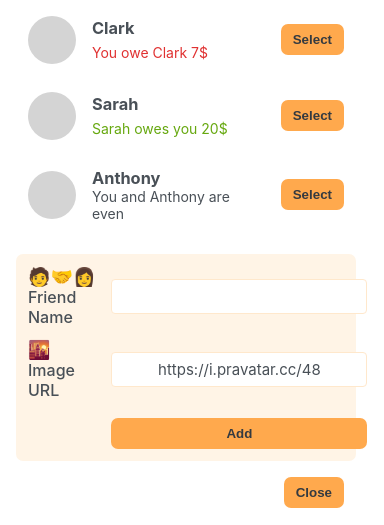
Test case: App component test suite › should unmount formAddFriend if the Close button is clicked
The image size is (384, 525).
Click the button "Close" at {"x": 314, "y": 492}, box [284, 477, 344, 508]
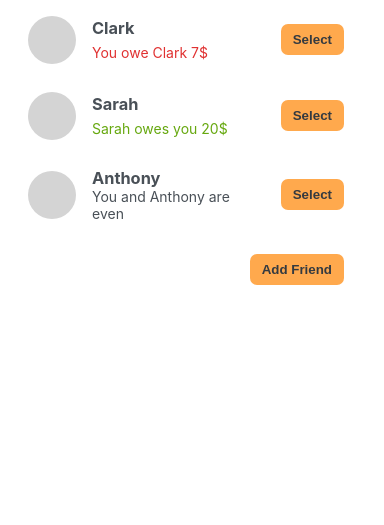
Expected: the button "Add Friend" is shown, [250, 254, 344, 285]
